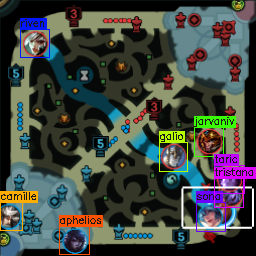aphelios: (62, 227, 88, 253)
camille: (1, 203, 22, 228)
galio: (161, 142, 185, 169)
jarvaniv: (197, 129, 220, 154)
jayce: (208, 200, 233, 224)
riven: (22, 31, 48, 57)
sona: (196, 203, 222, 228)
taric: (217, 166, 241, 190)
tristana: (218, 183, 243, 204)
